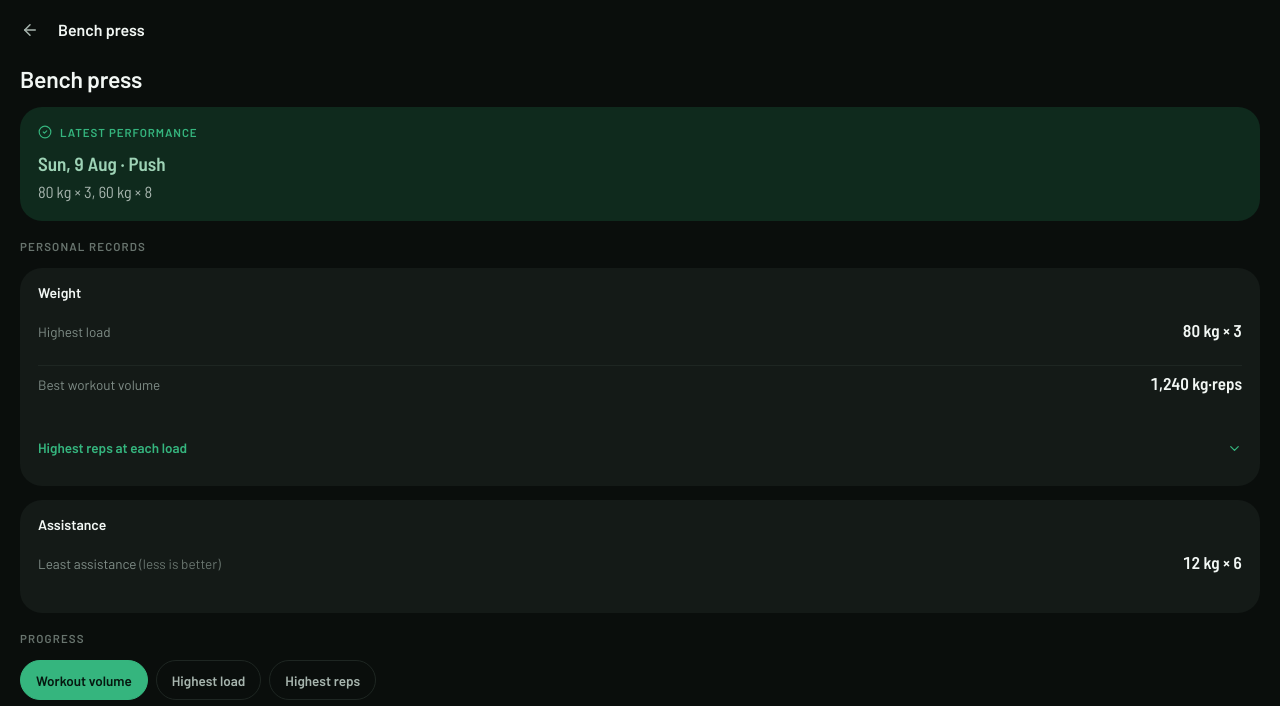
exercise progress detail › offers the highest reps at each load as a data list
Click the button "Highest reps at each load": x=113, y=448 [38,426,1242,470]
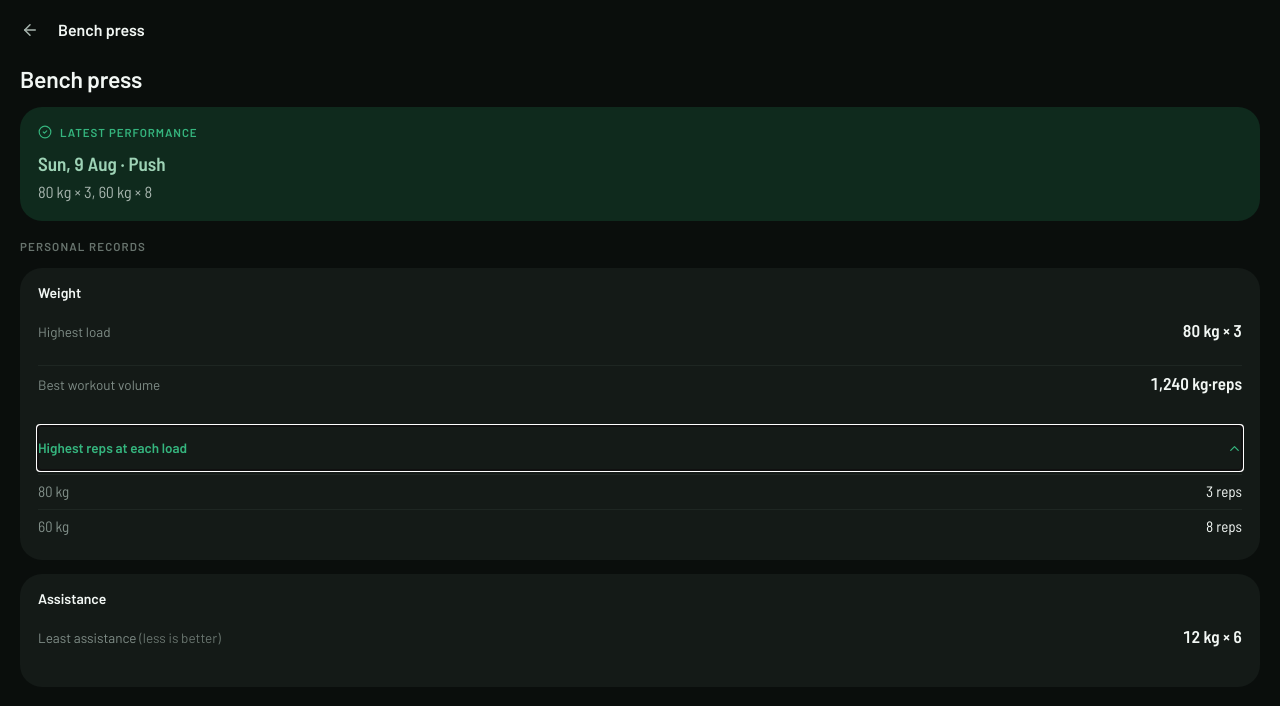
Expected: the text "80 kg" is shown, [38,482,69,502]
Expected: the button "Highest reps at each load" is expanded, [38,426,1242,470]
